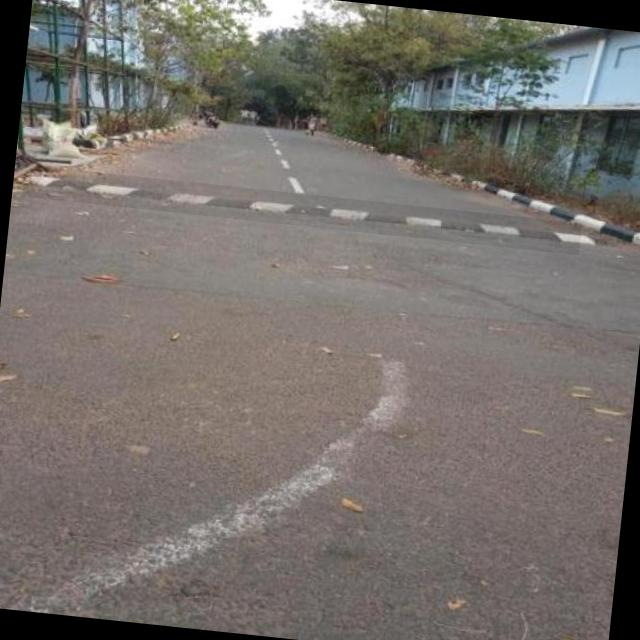bump: (21, 165, 582, 255)
